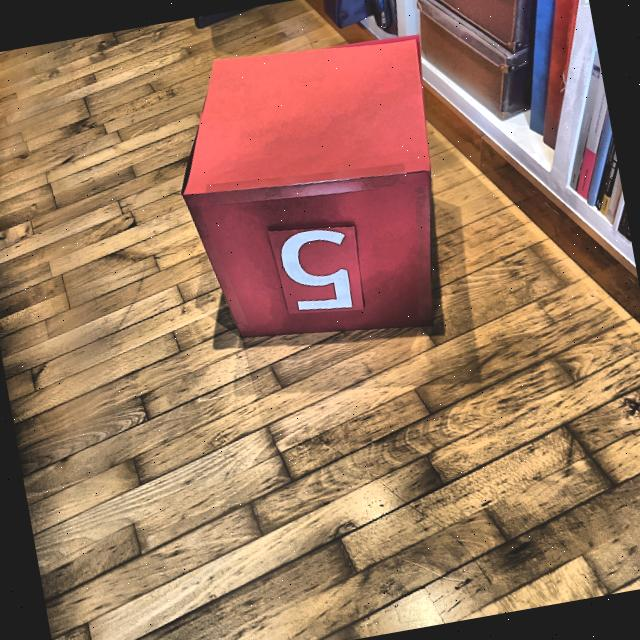five: (276, 220, 360, 320)
red box: (154, 20, 468, 368)
